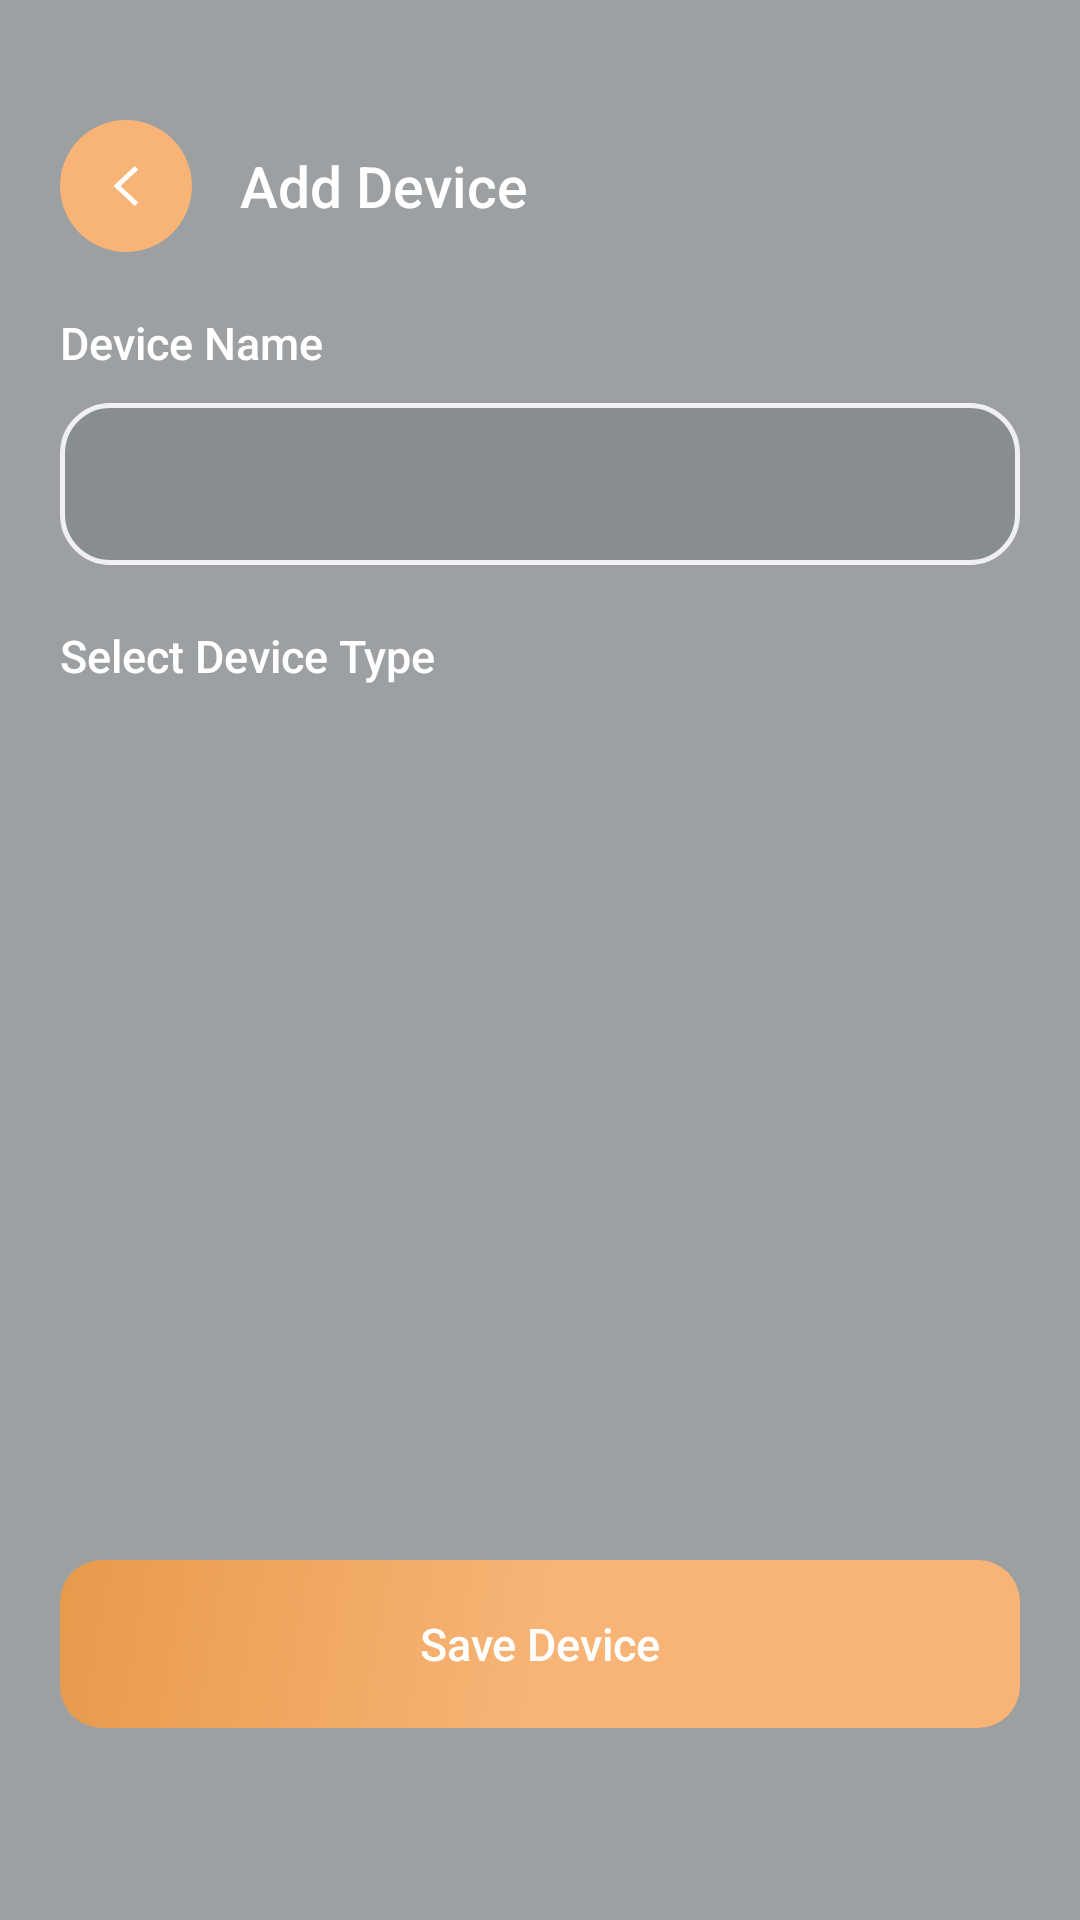

Screen size 1080x1920. Icon name, then its center in pixels as (x=x, y=y):
back: (x=126, y=186)
